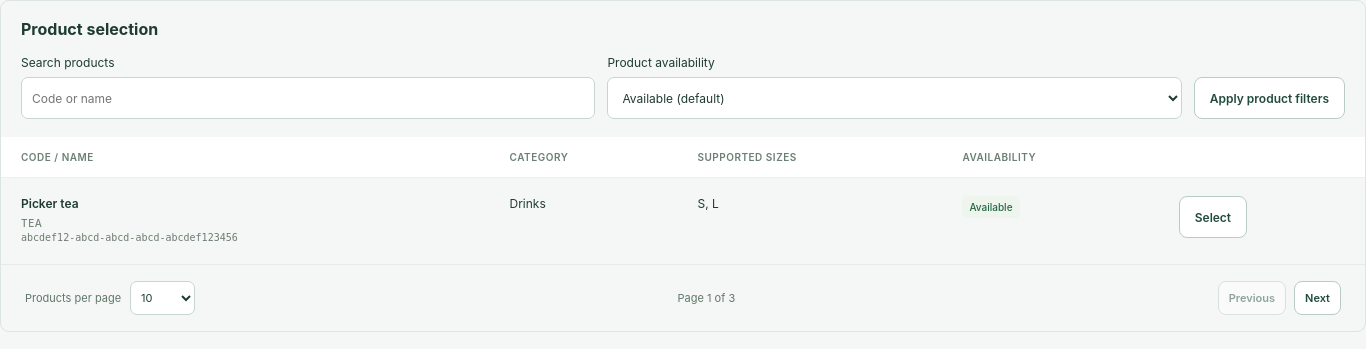
it: Catalog reference selection › paginates Products and resets to page one when the page size changes
expect the text "Page 1 of 3" is shown: met, box [678,291,735,305]
Click the button with aria-label "Next products page" at {"x": 1318, "y": 298}, box [1294,281,1341,315]
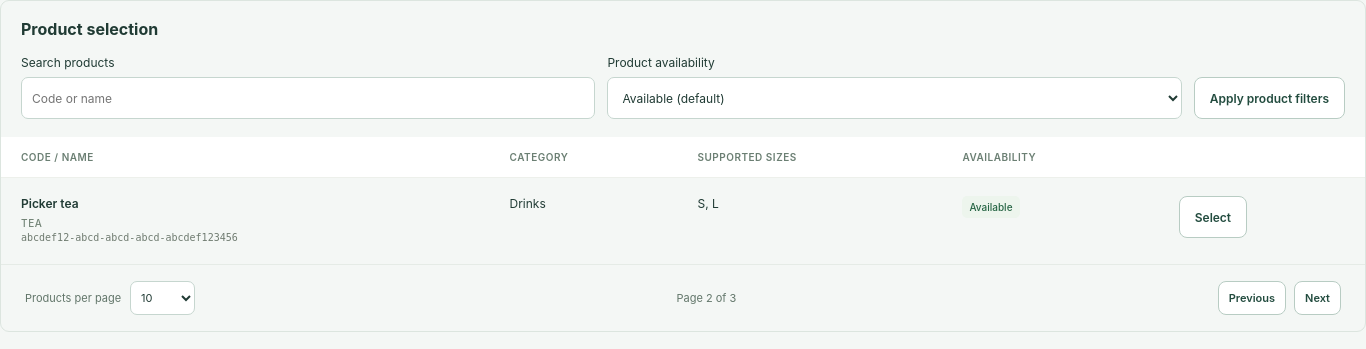
expect the text "Page 2 of 3" is shown: met, box [676,291,736,305]
Select "20" in the dropdown labelled "Products per page" at {"x": 163, "y": 298}, box [130,281,195,315]
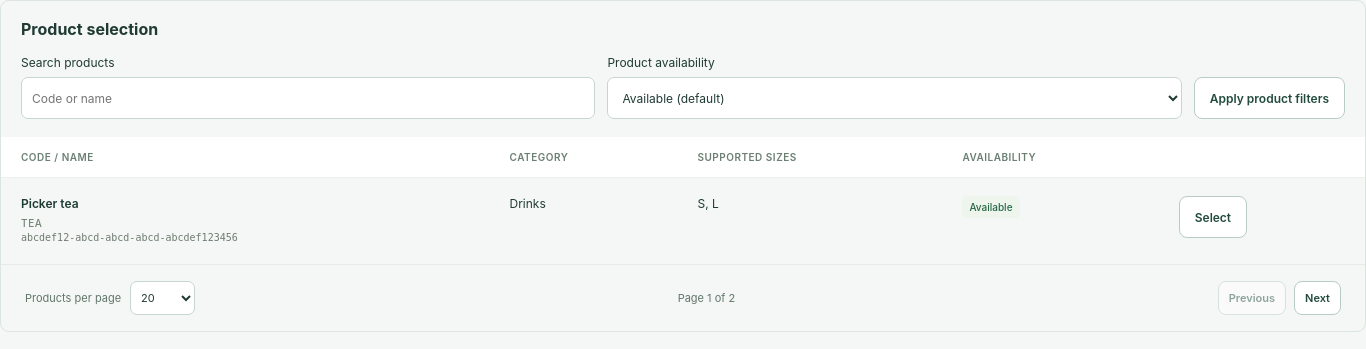
expect the text "Page 1 of 2" is shown: met, box [678,291,735,305]
